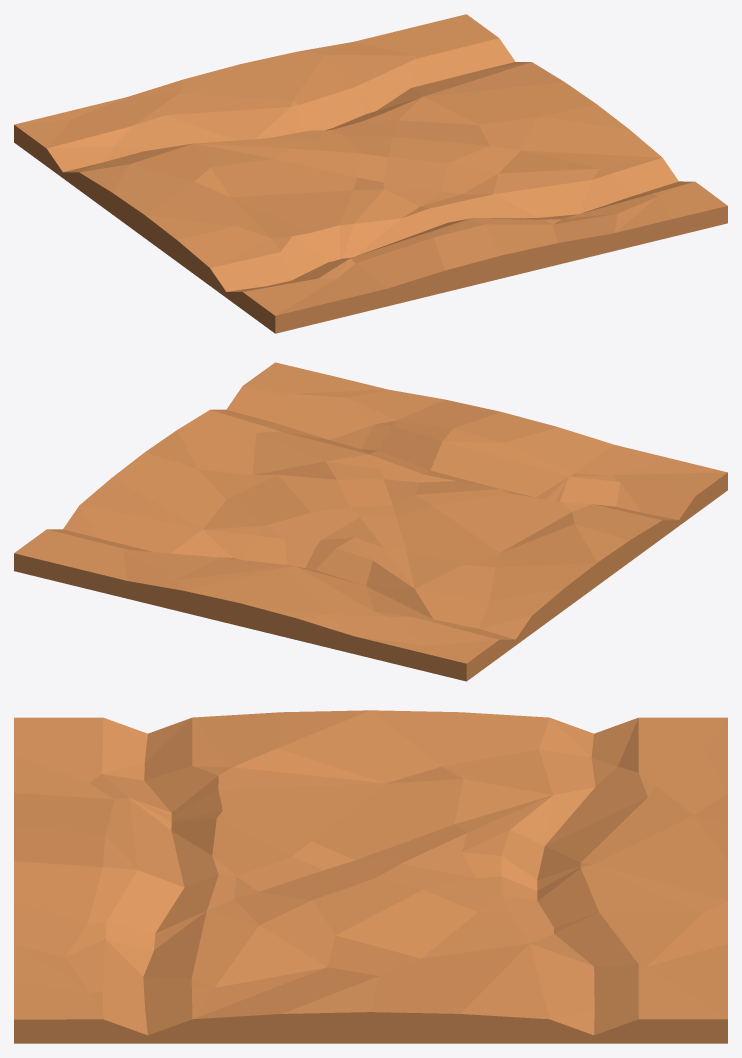
Rendered from Road_part_4.FBX.
The picture shows the model from 3 angles, top to bottom: view 1: azimuth 30°, elevation 25°; view 2: azimuth 150°, elevation 25°; view 3: azimuth 270°, elevation 25°; orthographic projection. The views are drawn at different scales.
Parts seen in each view (by area): view 1: Road_part_4; view 2: Road_part_4; view 3: Road_part_4.
Part boxes in pixels (box(x1,y1,x2,y2)): Road_part_4: box(14, 14, 727, 333); Road_part_4: box(14, 362, 727, 681); Road_part_4: box(14, 710, 727, 1043).
Bounding box in the file's own units: 1.5 × 0.0861 × 1.5.
1 material, 1 textured.
